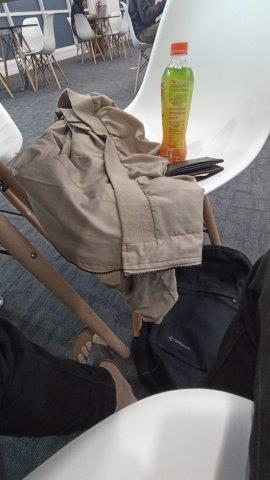botolplastik: (160, 41, 194, 163)
